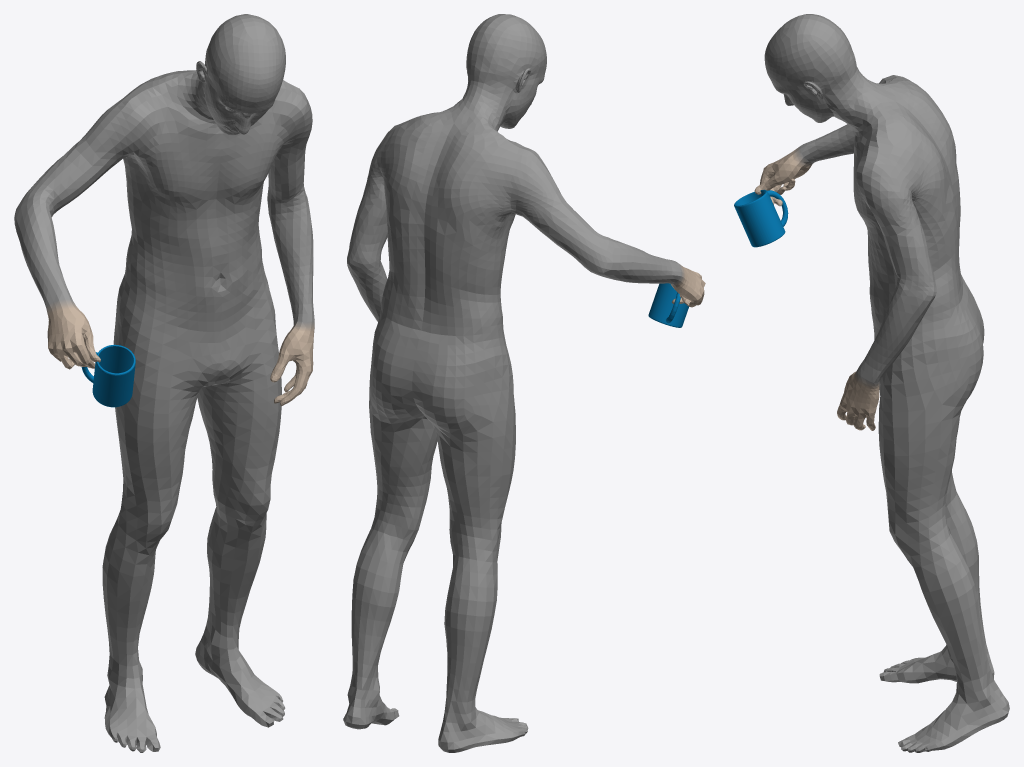
The model's file is toast_mug_full.glb.
3 views of the same model, side by side, from view 1: azimuth 30°, elevation 25°; view 2: azimuth 150°, elevation 25°; view 3: azimuth 270°, elevation 25° (orthographic). The views are drawn at different scales.
Visible parts, largest first — view 1: toast_mug_full.obj; view 2: toast_mug_full.obj; view 3: toast_mug_full.obj.
Boxes of the visible parts, bbox=[...] form: toast_mug_full.obj: bbox=[14, 14, 314, 752]; toast_mug_full.obj: bbox=[343, 14, 705, 752]; toast_mug_full.obj: bbox=[734, 14, 1009, 752].
Size of the model in its own units: 0.7674 by 1.73 by 0.6188.
